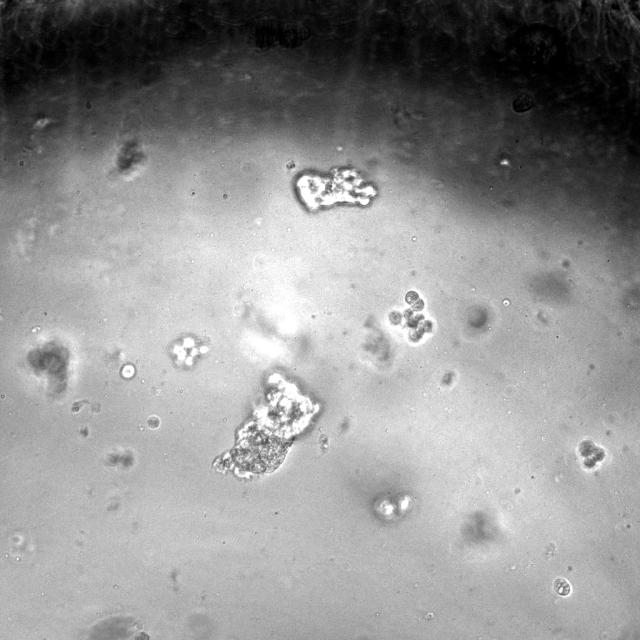organoid: (212, 371, 319, 478), (294, 167, 377, 212), (389, 290, 434, 343), (27, 340, 69, 396), (168, 334, 209, 370), (372, 492, 412, 522), (578, 440, 604, 468), (512, 91, 533, 113), (552, 577, 571, 597), (119, 363, 136, 380), (146, 415, 160, 428)
